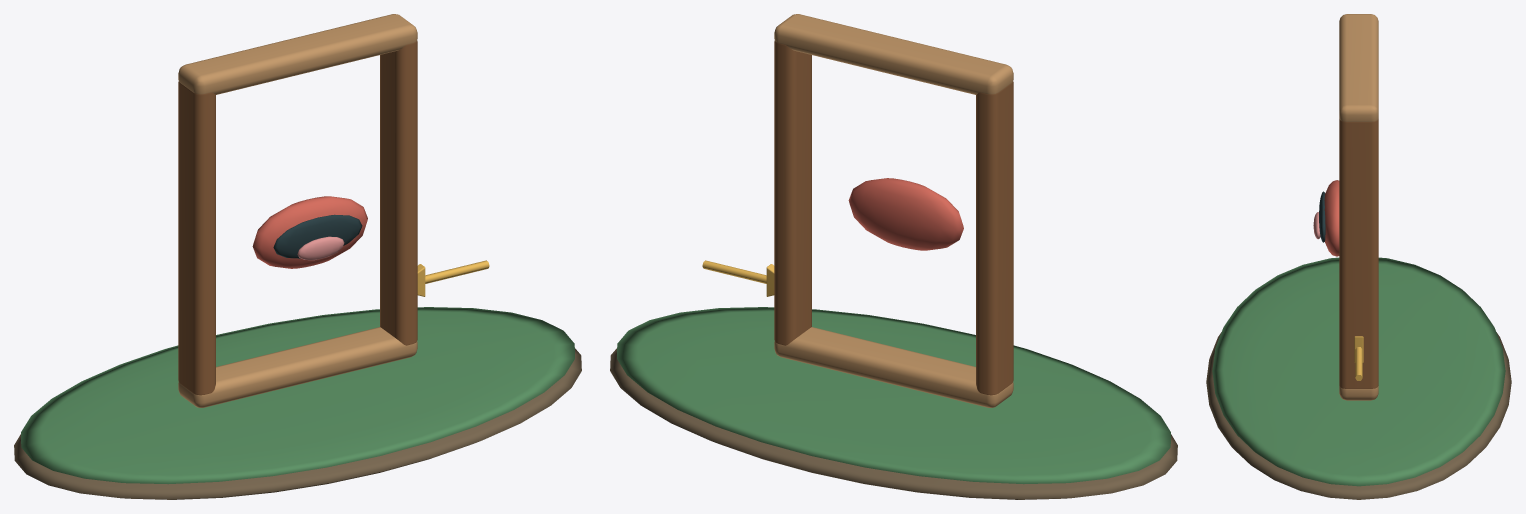
Rendered from return-loop.glb.
3 renders of one model, left to right at view 1: azimuth 30°, elevation 25°; view 2: azimuth 150°, elevation 25°; view 3: azimuth 270°, elevation 25°, orthographic. The views are drawn at different scales.
Visible parts, largest first — view 1: return-loop_surface_01, return-loop_surface_02, return-loop_surface_03, return-loop_surface_00, return-loop_surface_04, return-loop_surface_05, return-loop_surface_07, return-loop_surface_06; view 2: return-loop_surface_01, return-loop_surface_02, return-loop_surface_03, return-loop_surface_00, return-loop_surface_04, return-loop_surface_07; view 3: return-loop_surface_01, return-loop_surface_02, return-loop_surface_00, return-loop_surface_03, return-loop_surface_04, return-loop_surface_07.
Part boxes in pixels (x1,y1,x2,y2): return-loop_surface_01: (21, 307, 574, 484); return-loop_surface_02: (178, 40, 417, 395); return-loop_surface_03: (178, 14, 417, 407); return-loop_surface_00: (14, 348, 581, 499); return-loop_surface_04: (252, 196, 367, 268); return-loop_surface_05: (273, 214, 362, 258); return-loop_surface_07: (417, 260, 489, 296); return-loop_surface_06: (297, 236, 344, 260); return-loop_surface_01: (617, 307, 1170, 484); return-loop_surface_02: (774, 40, 1013, 395); return-loop_surface_03: (774, 14, 1013, 407); return-loop_surface_00: (610, 348, 1177, 499); return-loop_surface_04: (848, 178, 963, 250); return-loop_surface_07: (702, 260, 774, 296); return-loop_surface_01: (1212, 257, 1505, 486); return-loop_surface_02: (1339, 119, 1378, 388); return-loop_surface_00: (1206, 332, 1511, 499); return-loop_surface_03: (1339, 14, 1378, 400); return-loop_surface_04: (1324, 180, 1339, 256); return-loop_surface_07: (1354, 336, 1363, 380).
Bounding box in the file's own units: 4.56 × 3.04 × 2.5.
